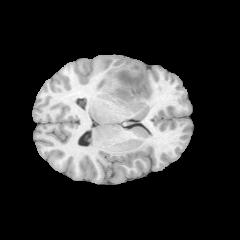glioma: (104, 63, 151, 105)
